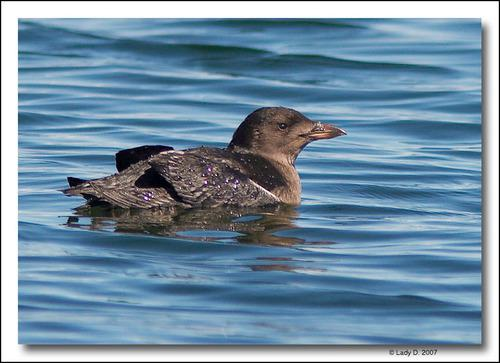008.Rhinoceros_Auklet: (58, 106, 349, 246)
